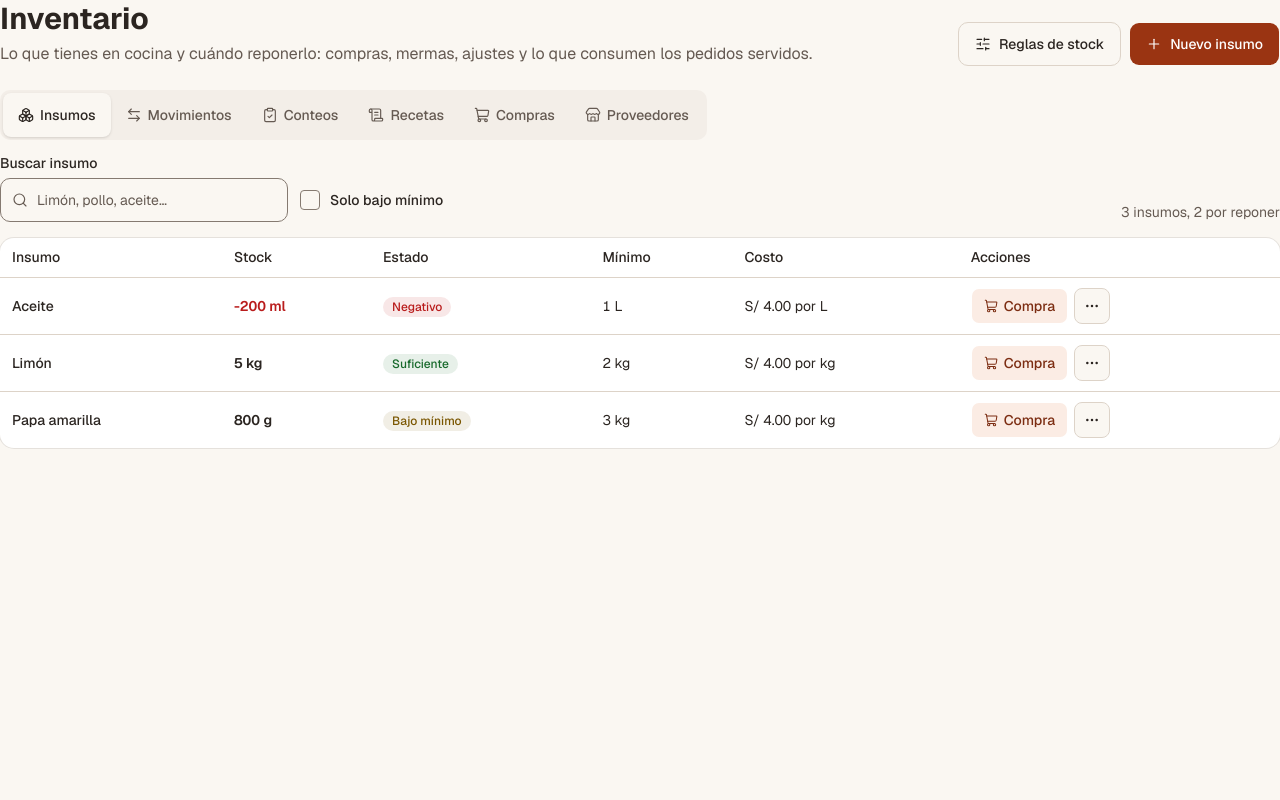
Test: InventoryView: tabla de insumos › cada fila ofrece la compra a la vista y merma, ajuste y edición en su menú, con el nombre del insumo
The width and height of the screenshot is (1280, 800).
Step 1. Click the button named "Más acciones de Limón" → (1092,363), box [1074,345,1110,381]
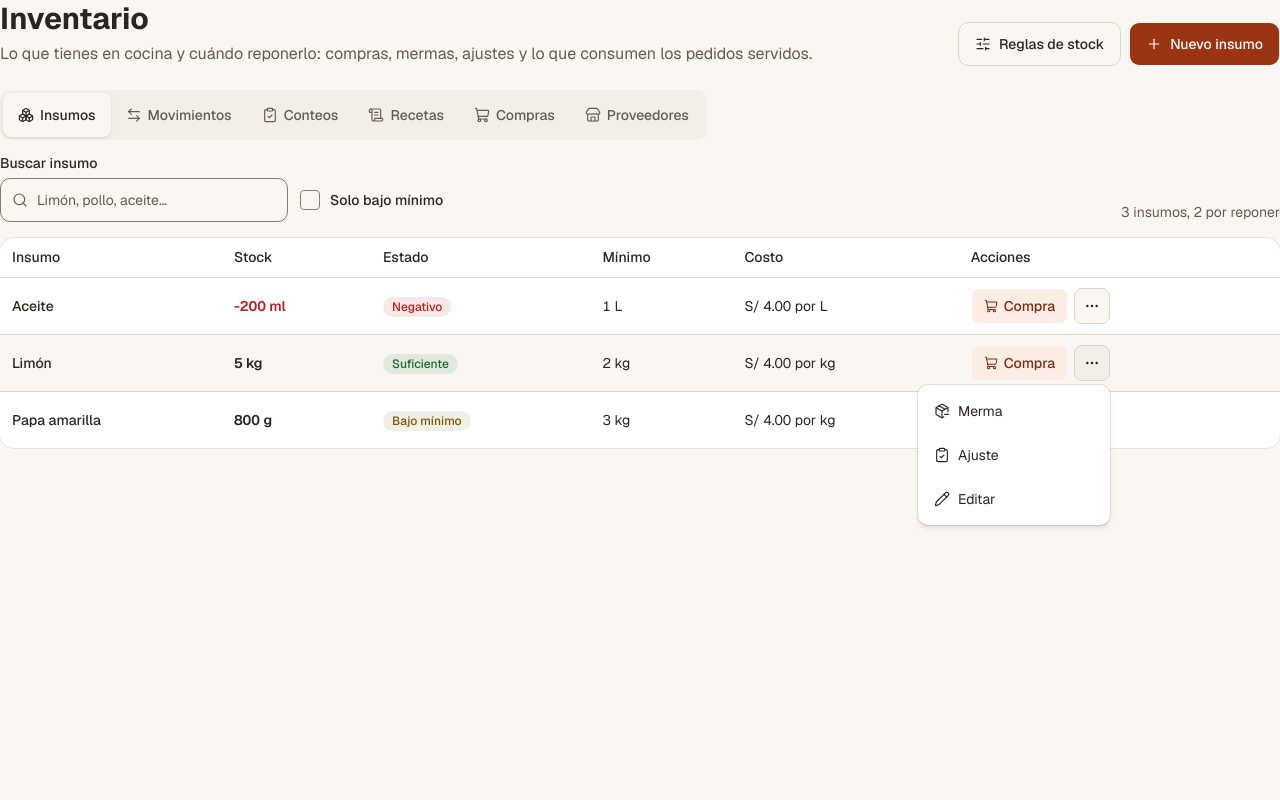
Step 2. Click the menu item "Merma" → (968,411), box [934,402,1002,420]
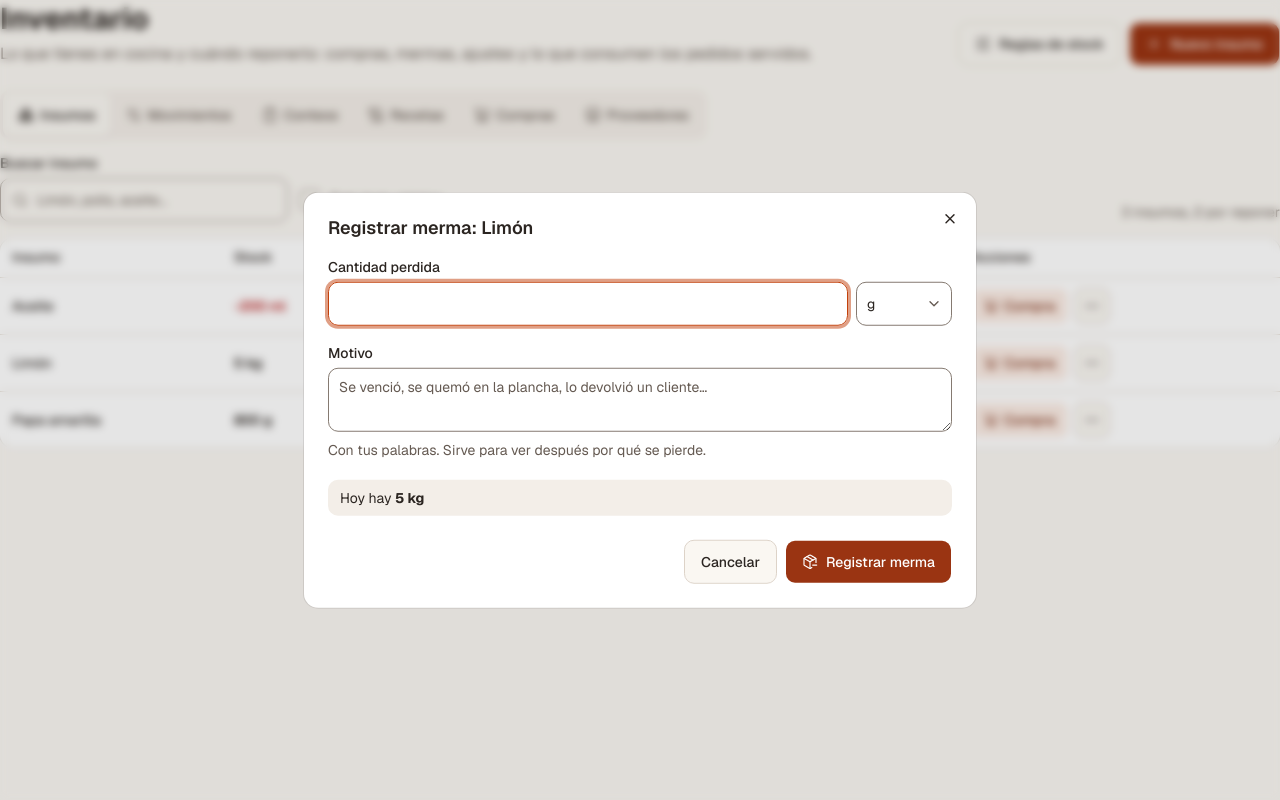
Expected: the dialog "Registrar merma: Limón" is shown, [304,193,976,607]
Step 3. Click the button "Cancelar" → (730,561), box [684,539,777,583]
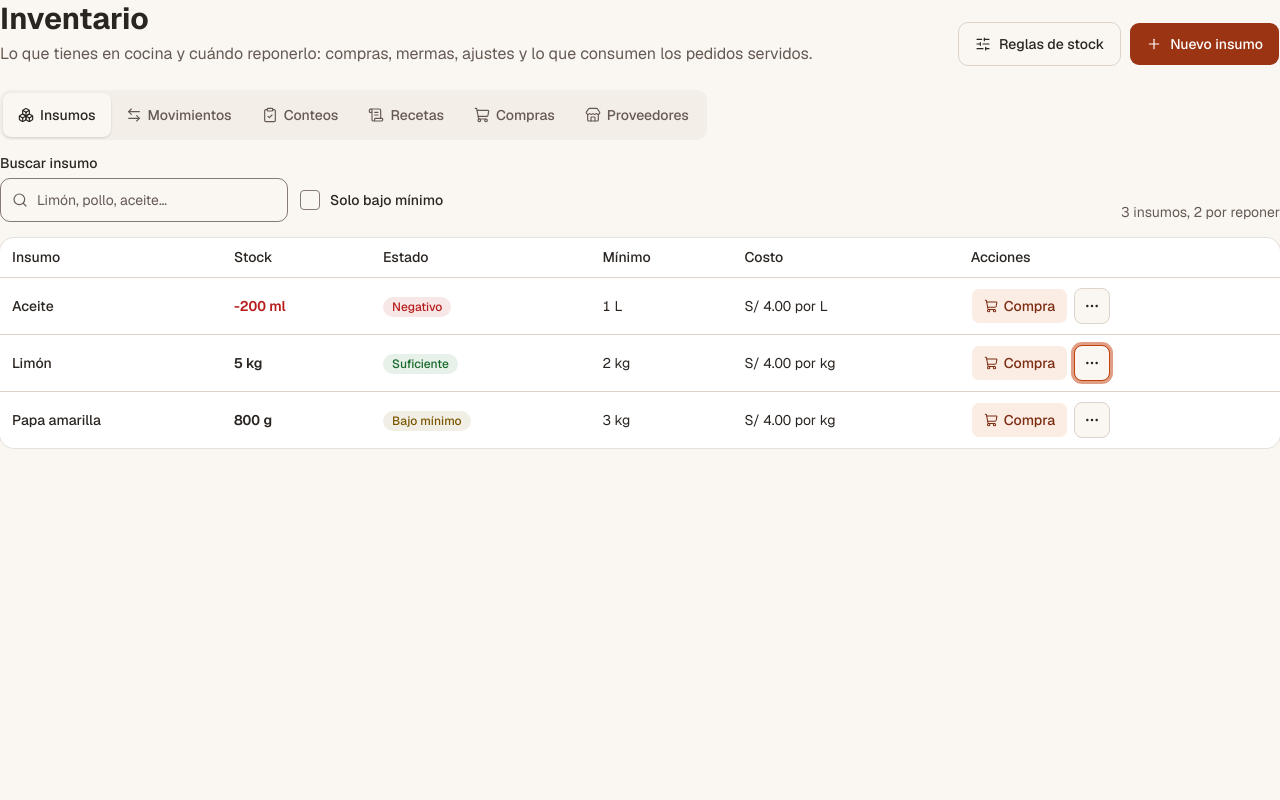
Step 4. Click the button named "Más acciones de Limón" → (1092,363), box [1074,345,1110,381]
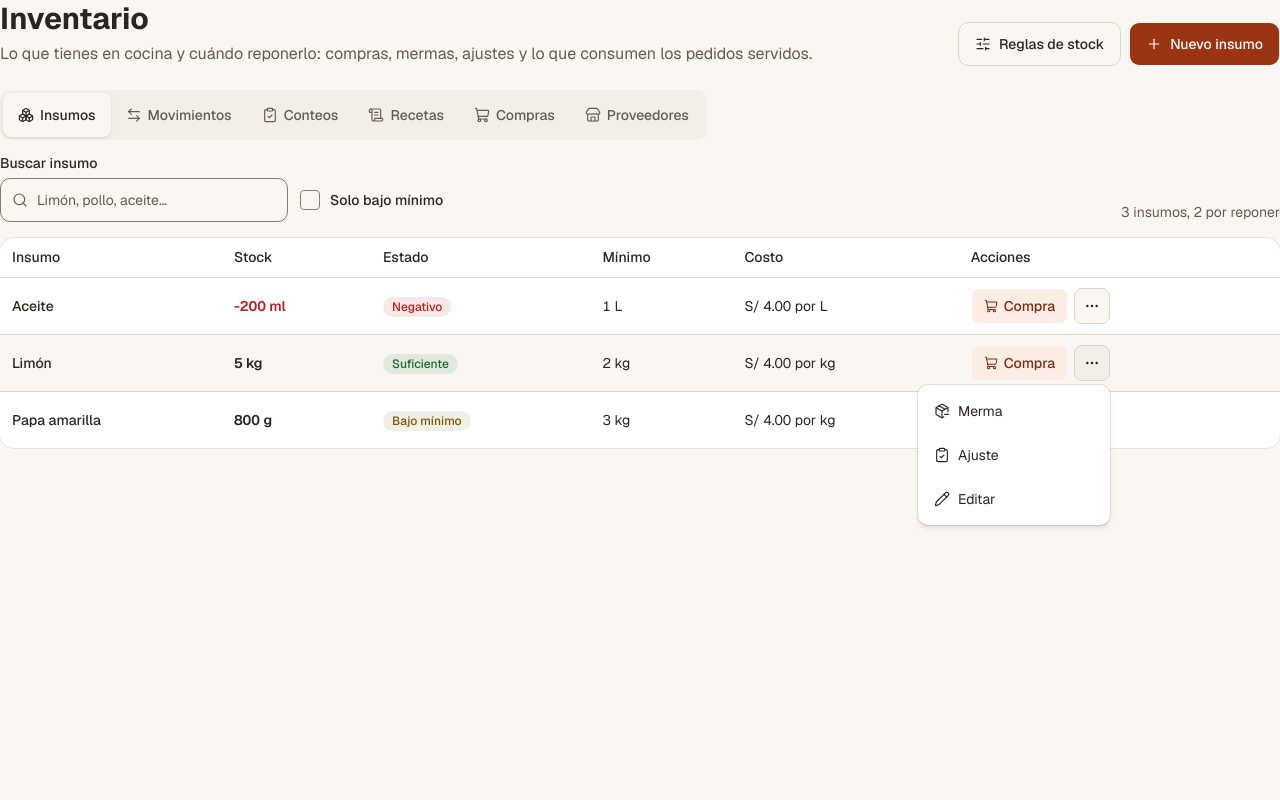
Step 5. Click the menu item "Ajuste" → (966,455), box [934,446,999,464]
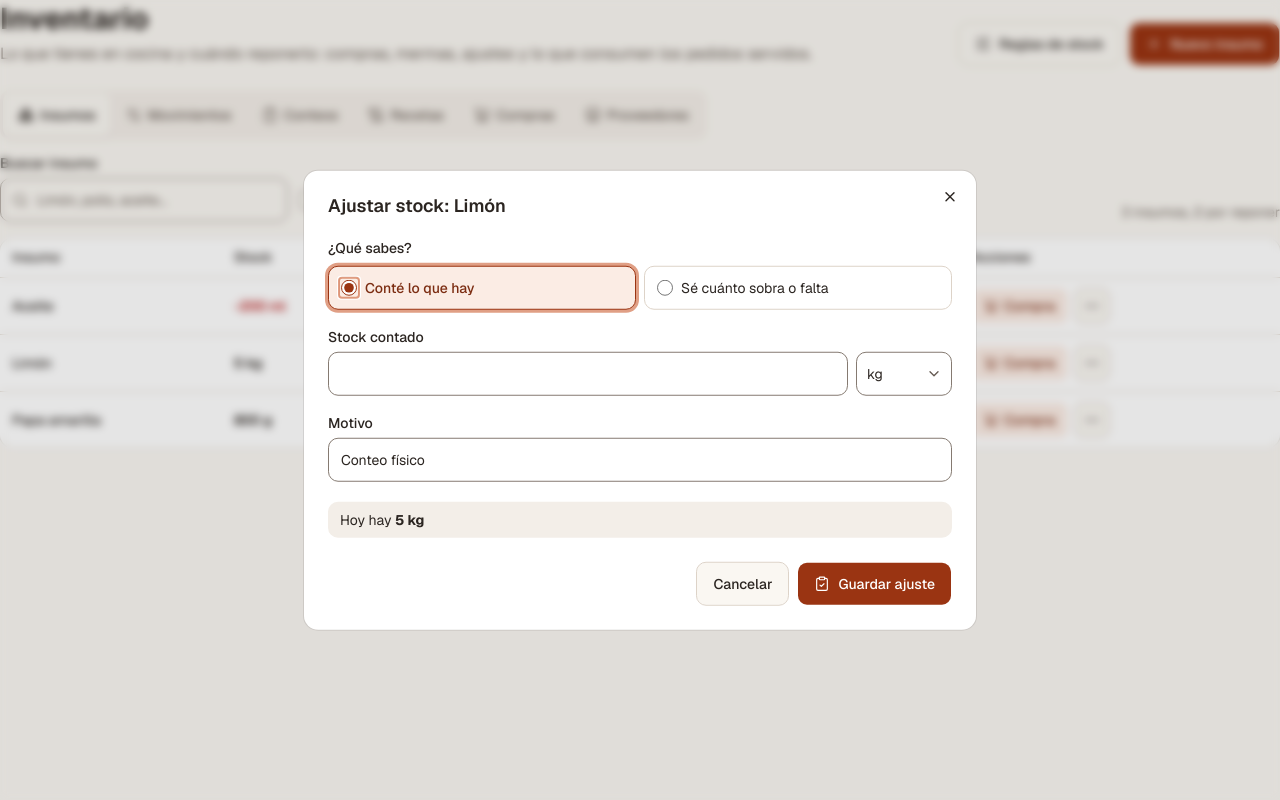
Expected: the dialog "Ajustar stock: Limón" is shown, [304,171,976,629]
